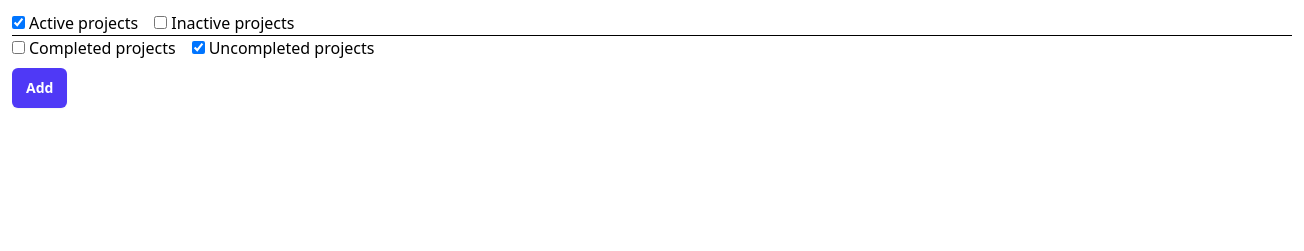
Test case: ProjectView › hides add project form when Cancel button is clicked
Click the button "Add" at (40, 88), box [12, 68, 67, 108]
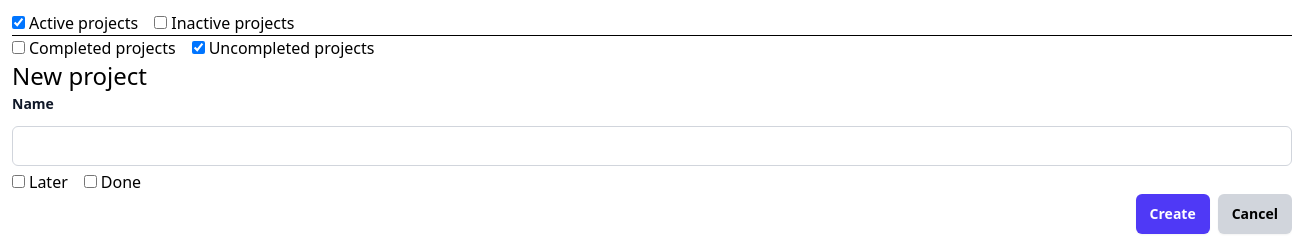
Check: the element with test id "add-project-form" is shown
Check: the button "Add" is gone
Click the button "Cancel" at (1255, 214), box [1218, 194, 1292, 234]
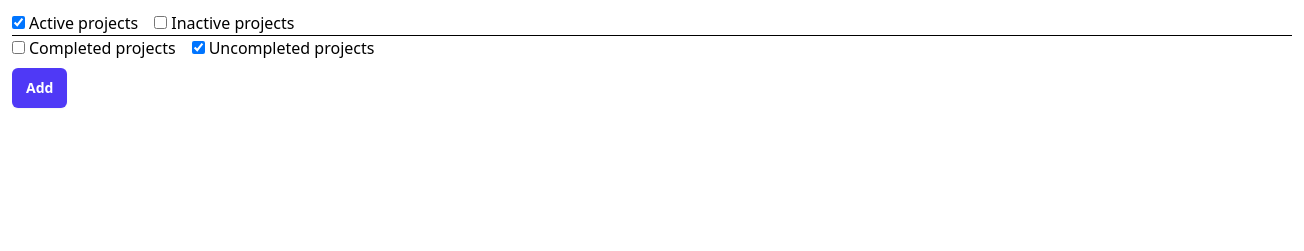
Check: the element with test id "add-project-form" is gone
Check: the button "Add" is shown, box [12, 68, 67, 108]
